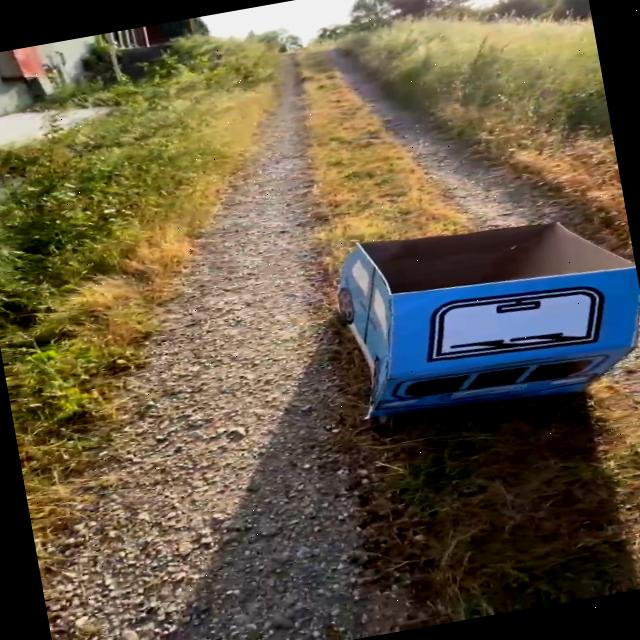blue_car: (249, 183, 640, 466)
